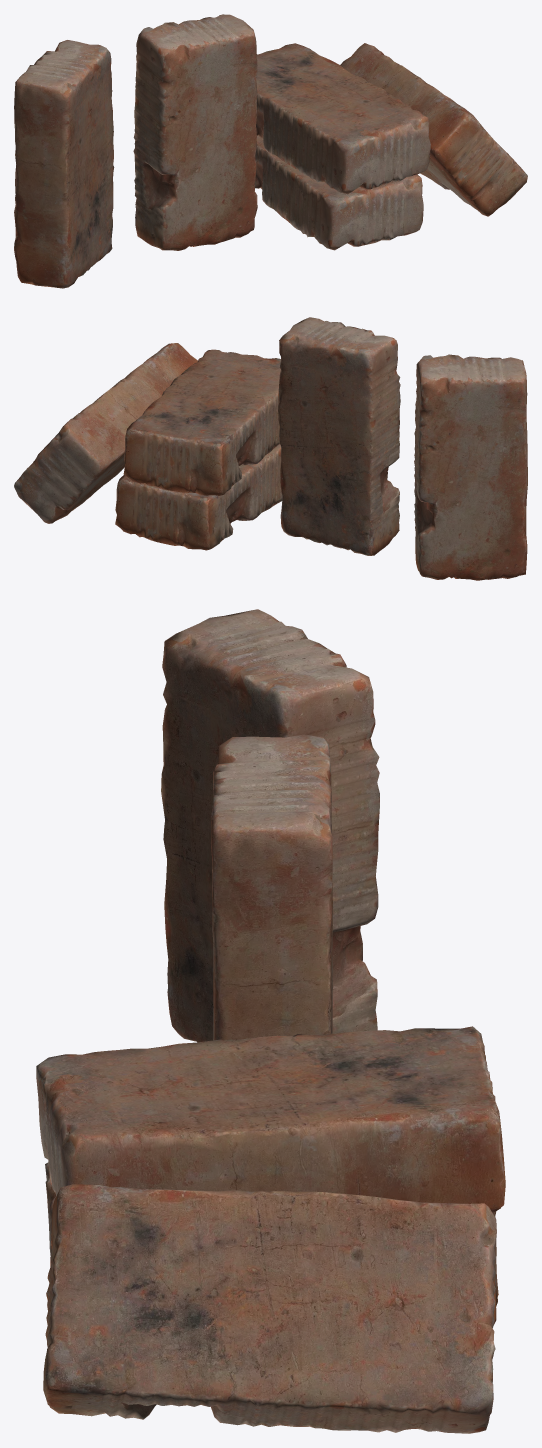
File: ladrillo glb.draco.glb
3 views of the same model, one above another, from view 1: azimuth 30°, elevation 25°; view 2: azimuth 150°, elevation 25°; view 3: azimuth 270°, elevation 25° (orthographic). The views are drawn at different scales.
Visible parts, largest first — view 1: 6fa232ff-7db7-42d5-9e37-ff8561fc1983, 20b4b6ed-2a6f-4115-a6f2-e0e212bc2402, 47250320-a27c-487c-92a9-4d95feffc515, 94d28ee1-cee5-47b3-a902-9ee3161594bb, 977604db-2160-4bae-b442-5a2de072a411; view 2: 6fa232ff-7db7-42d5-9e37-ff8561fc1983, 20b4b6ed-2a6f-4115-a6f2-e0e212bc2402, 47250320-a27c-487c-92a9-4d95feffc515, 94d28ee1-cee5-47b3-a902-9ee3161594bb, 977604db-2160-4bae-b442-5a2de072a411; view 3: 94d28ee1-cee5-47b3-a902-9ee3161594bb, 47250320-a27c-487c-92a9-4d95feffc515, 20b4b6ed-2a6f-4115-a6f2-e0e212bc2402, 6fa232ff-7db7-42d5-9e37-ff8561fc1983.
Boxes of the visible parts, x1,y1,x2,y2 form: 6fa232ff-7db7-42d5-9e37-ff8561fc1983: (133, 14, 257, 250); 20b4b6ed-2a6f-4115-a6f2-e0e212bc2402: (14, 40, 114, 288); 47250320-a27c-487c-92a9-4d95feffc515: (256, 43, 430, 194); 94d28ee1-cee5-47b3-a902-9ee3161594bb: (340, 43, 527, 216); 977604db-2160-4bae-b442-5a2de072a411: (254, 136, 423, 250); 6fa232ff-7db7-42d5-9e37-ff8561fc1983: (277, 317, 400, 555); 20b4b6ed-2a6f-4115-a6f2-e0e212bc2402: (414, 354, 527, 580); 47250320-a27c-487c-92a9-4d95feffc515: (123, 349, 280, 495); 94d28ee1-cee5-47b3-a902-9ee3161594bb: (14, 343, 197, 523); 977604db-2160-4bae-b442-5a2de072a411: (115, 444, 282, 550); 94d28ee1-cee5-47b3-a902-9ee3161594bb: (43, 1184, 496, 1433); 47250320-a27c-487c-92a9-4d95feffc515: (36, 1026, 505, 1212); 20b4b6ed-2a6f-4115-a6f2-e0e212bc2402: (161, 609, 379, 1042); 6fa232ff-7db7-42d5-9e37-ff8561fc1983: (211, 734, 333, 1040).
Size of the model in its own units: 0.5783 by 0.2564 by 0.256.
1 material, 1 textured.
